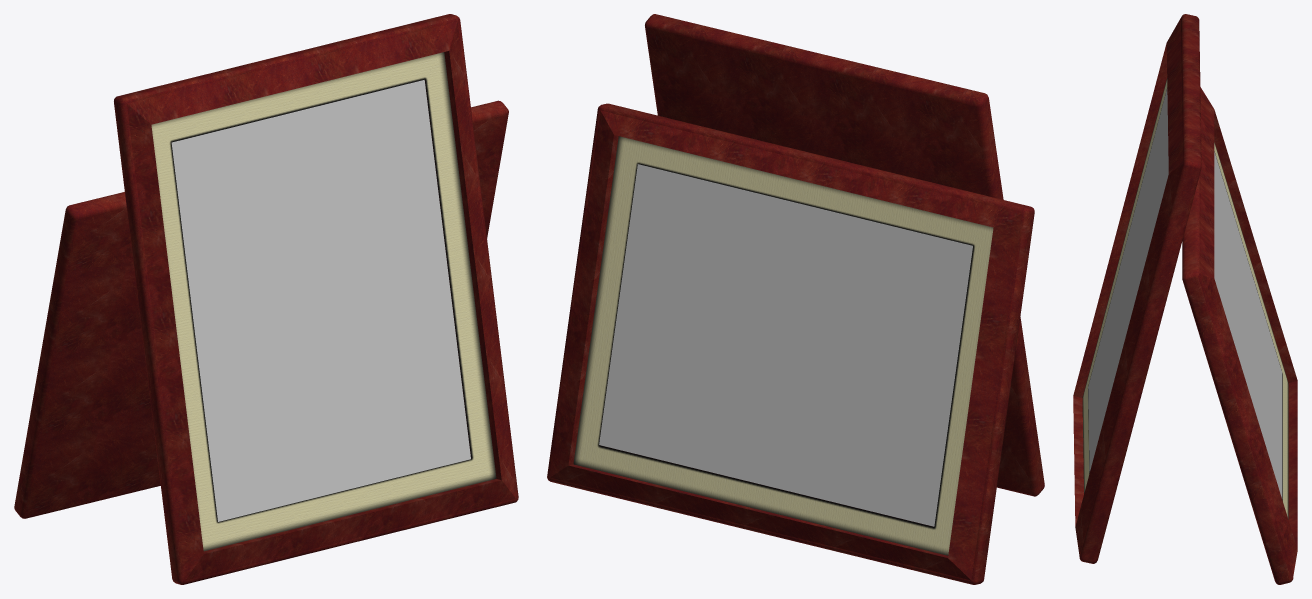
Rendered from frames.dae.
3 renders of one model, left to right at view 1: azimuth 30°, elevation 25°; view 2: azimuth 150°, elevation 25°; view 3: azimuth 270°, elevation 25°, orthographic. The views are drawn at different scales.
Visible parts, largest first — view 1: PhotoFrame-Vertical, PhotoFrame-Horizontal; view 2: PhotoFrame-Horizontal, PhotoFrame-Vertical; view 3: PhotoFrame-Vertical, PhotoFrame-Horizontal.
Boxes of the visible parts, box(x1,y1,x2,y2) form: PhotoFrame-Vertical: box(114, 14, 518, 584); PhotoFrame-Horizontal: box(14, 100, 508, 518); PhotoFrame-Horizontal: box(547, 103, 1034, 584); PhotoFrame-Vertical: box(645, 14, 1044, 496); PhotoFrame-Vertical: box(1073, 14, 1201, 563); PhotoFrame-Horizontal: box(1182, 87, 1297, 584).
Size of the model in its own units: 96 by 47.43 by 93.88.
